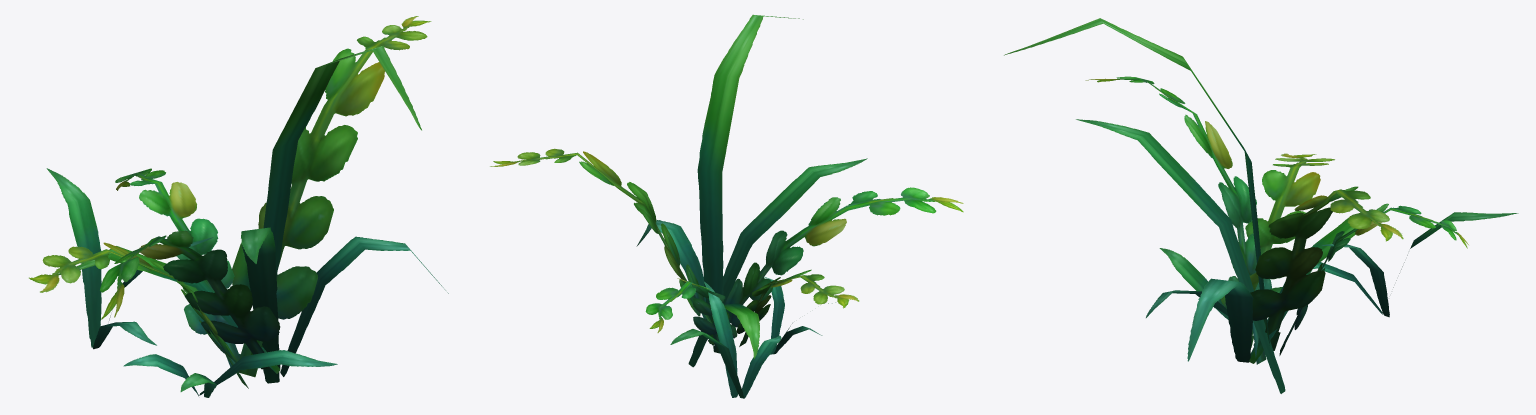
Rendered from h5_grass.FBX.
The picture shows the model from 3 angles, left to right: view 1: azimuth 30°, elevation 25°; view 2: azimuth 150°, elevation 25°; view 3: azimuth 270°, elevation 25°; orthographic projection. The views are drawn at different scales.
Parts seen in each view (by area): view 1: h5_grass; view 2: h5_grass; view 3: h5_grass.
Boxes of the visible parts, <box> form: h5_grass: <box>29,16,448,397</box>; h5_grass: <box>490,14,963,398</box>; h5_grass: <box>1004,18,1518,393</box>.
Size of the model in its own units: 2.04 by 1.57 by 1.94.
1 material, 1 textured.
